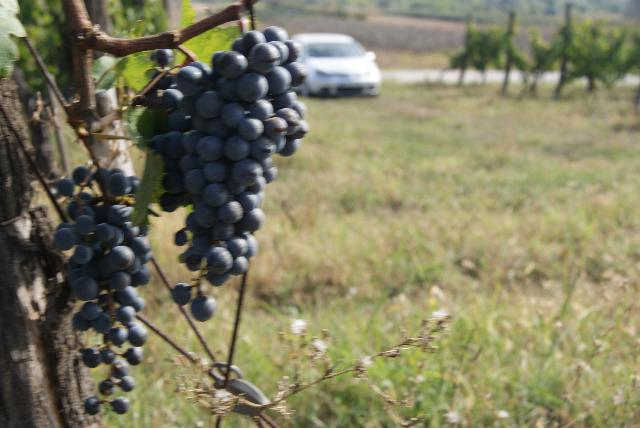grapes: (165, 26, 309, 286), (54, 166, 151, 415), (138, 60, 211, 211)
